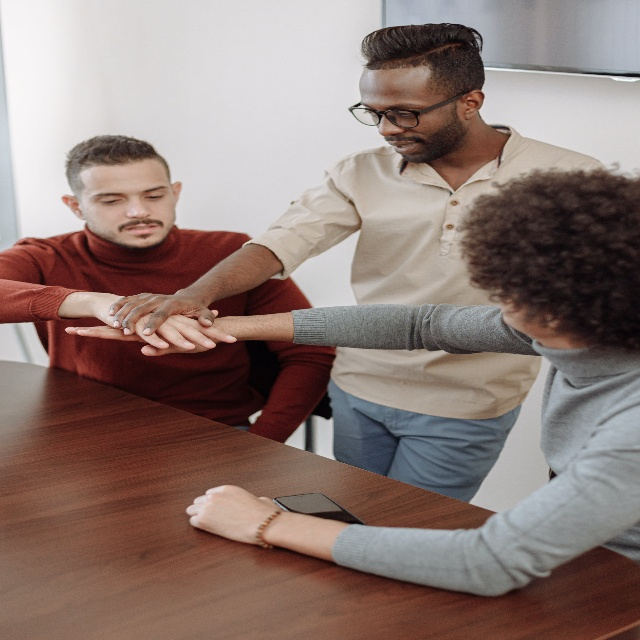Gafas: (348, 87, 475, 128)
Sin_guantes: (96, 284, 238, 351), (186, 476, 282, 551), (64, 319, 221, 354), (109, 285, 215, 336)
